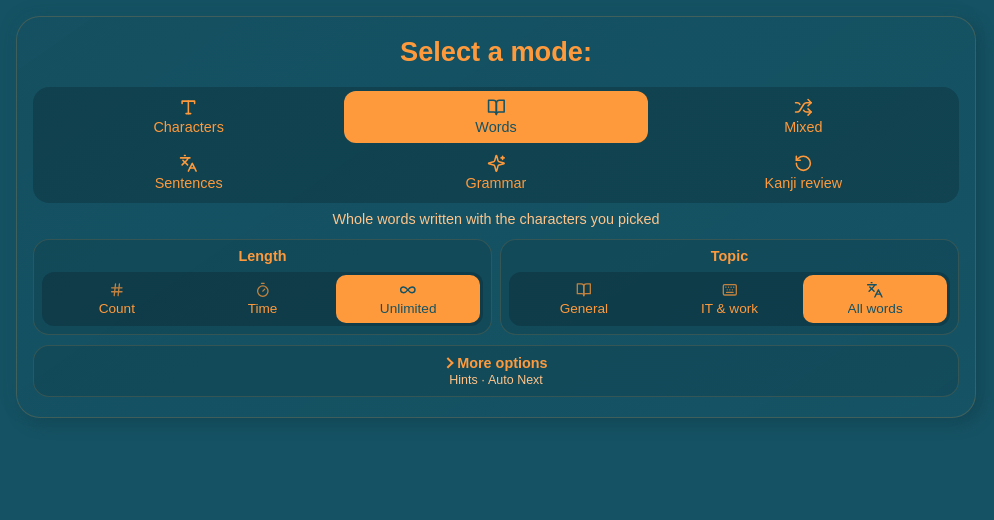
sentence options › are only shown for sentence practice
Expected: the element "Exercise" is not shown
Step 1. Click the tab "Sentences" → (189, 173), box [37, 147, 340, 199]
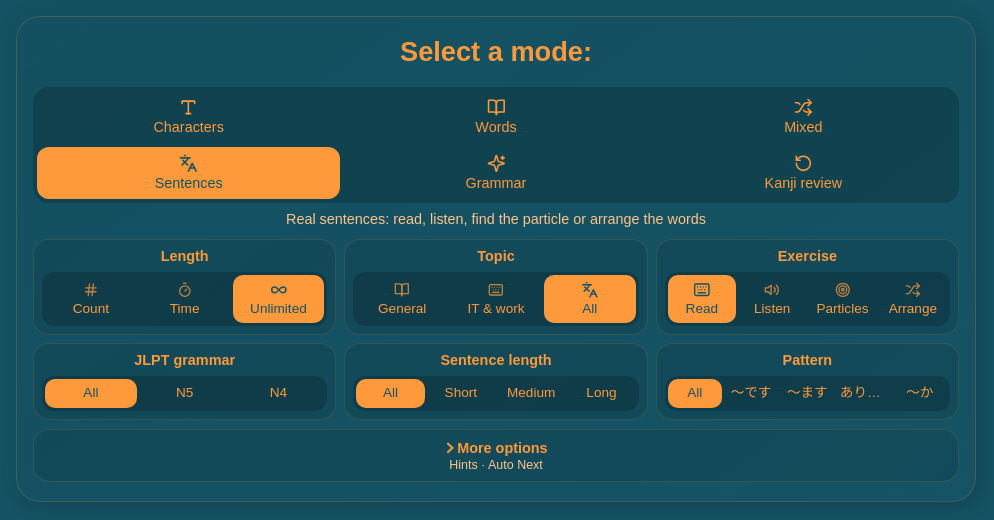
Result: the element named "Exercise" is shown at [665, 272, 950, 326]
Result: the element named "Sentence length" is shown at [353, 376, 639, 411]
Result: the element named "Pattern" is shown at [665, 376, 950, 411]
